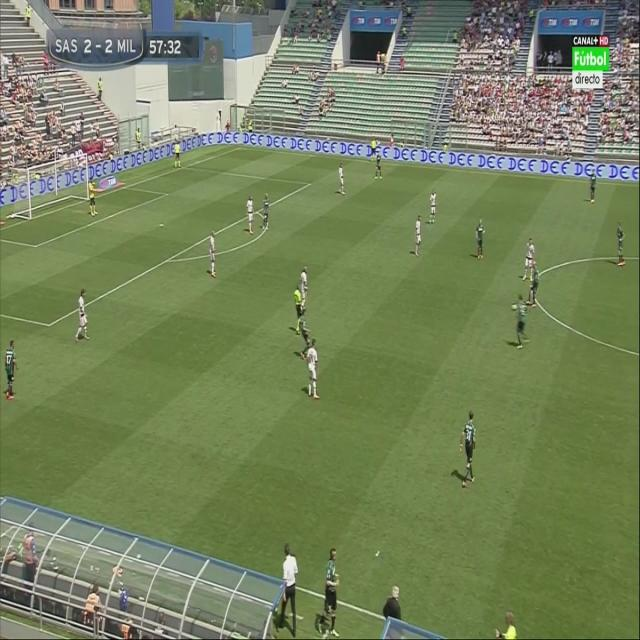Ball: (510, 301, 518, 312)
Goalkeeper: (87, 174, 100, 218)
Player: (456, 408, 479, 488), (2, 337, 18, 407), (305, 338, 321, 402), (74, 288, 89, 345), (516, 294, 530, 352), (526, 258, 540, 310), (521, 236, 535, 282), (300, 316, 312, 363), (616, 222, 627, 273), (475, 217, 487, 261), (244, 194, 256, 237), (209, 229, 219, 280), (260, 190, 271, 234), (413, 214, 423, 261), (298, 266, 308, 311), (337, 161, 348, 197), (428, 188, 438, 226), (588, 169, 598, 205), (374, 152, 384, 183)
Referee: (293, 284, 304, 335), (172, 138, 182, 171), (370, 138, 377, 162)
